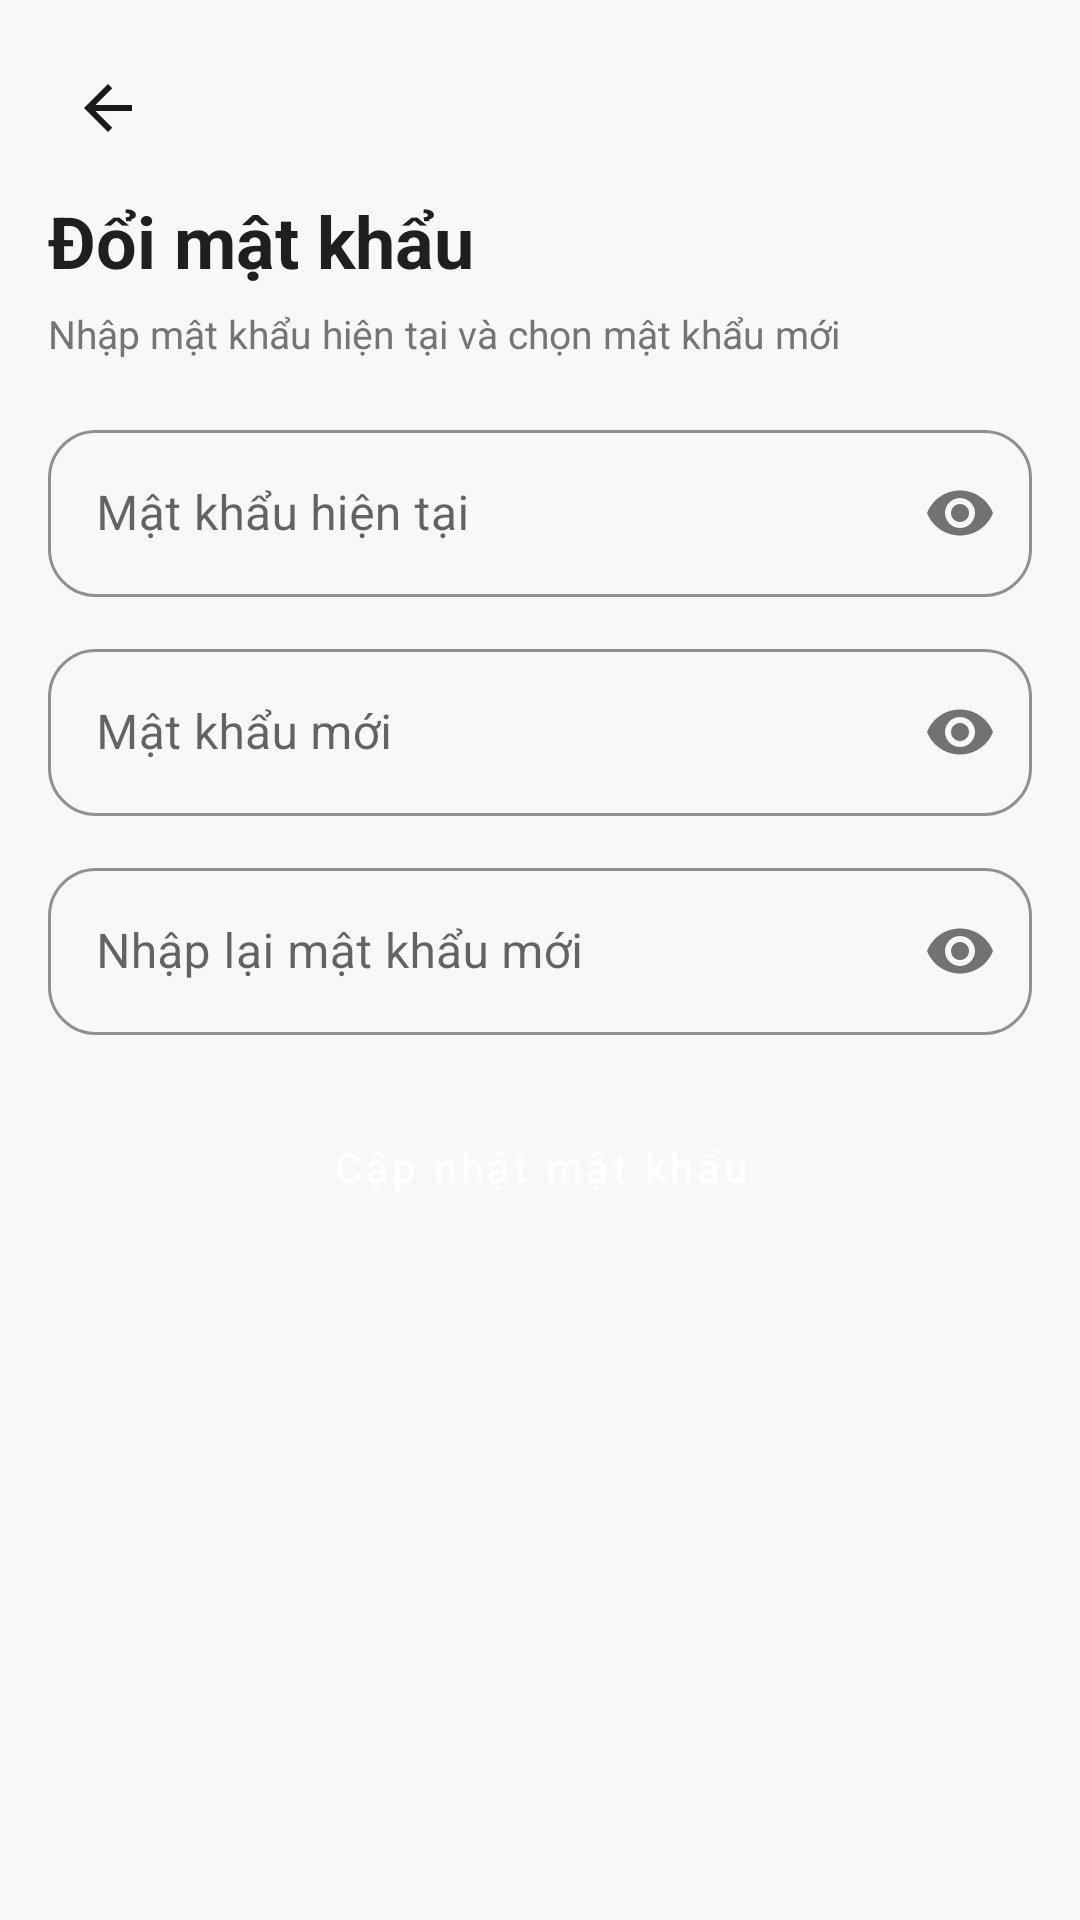

Where icons sit on this 1080 x 1920 app screen, as (x1, y1, x2, y2):
Quay lại: (84, 84, 132, 132)
